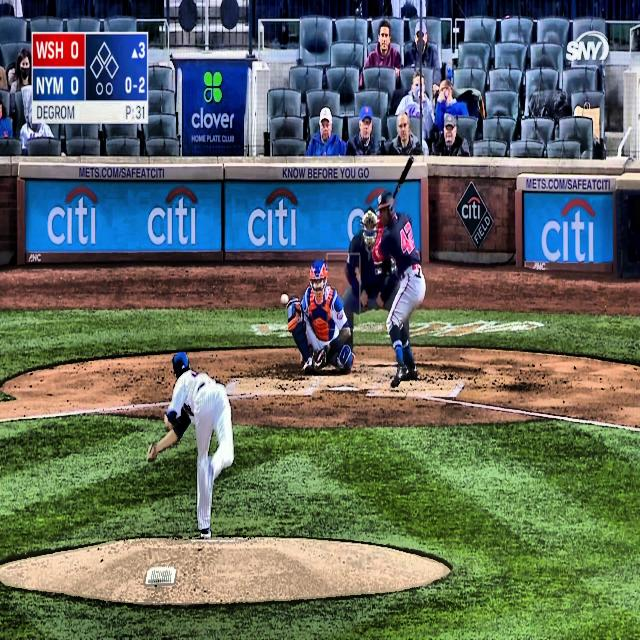baseball: (281, 294, 289, 305)
